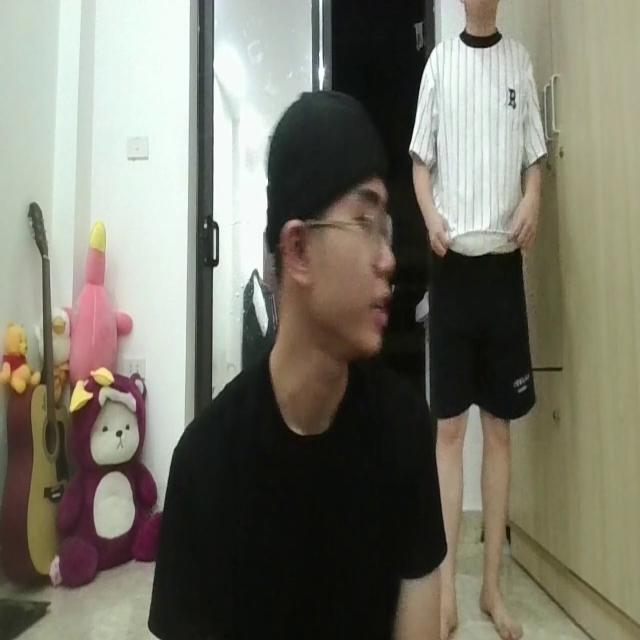extra_person: (416, 0, 548, 613)
student: (148, 82, 442, 640)
